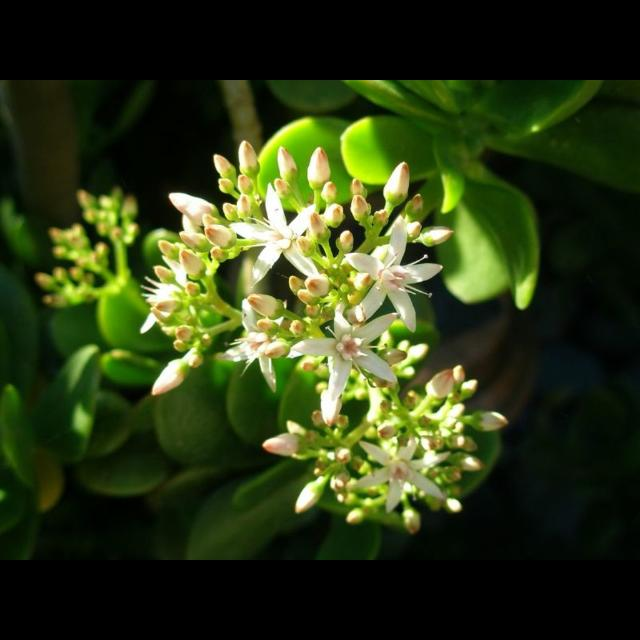Flower: (126, 100, 514, 538)
